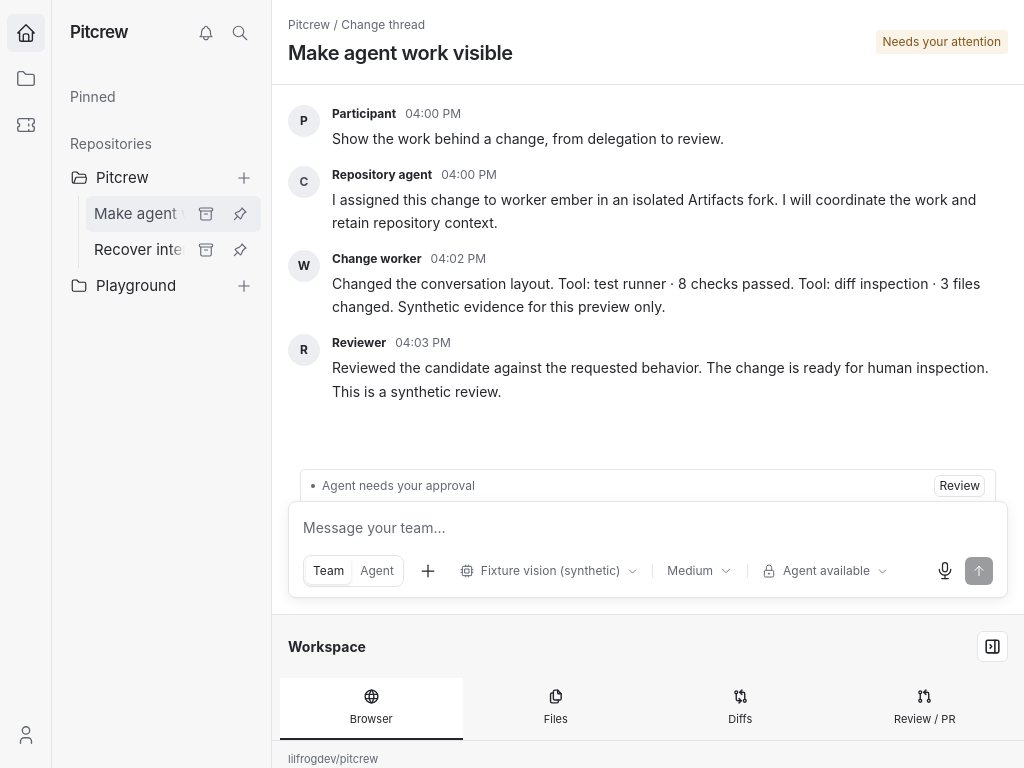
does not start after a pending capability check loses its originating thread
Expected: the text "Show the work behind a change, from delegation to review." is shown, [332,130,724,147]
Click the button named "Dictate message".
click(945, 571)  # box [929,555,961,587]
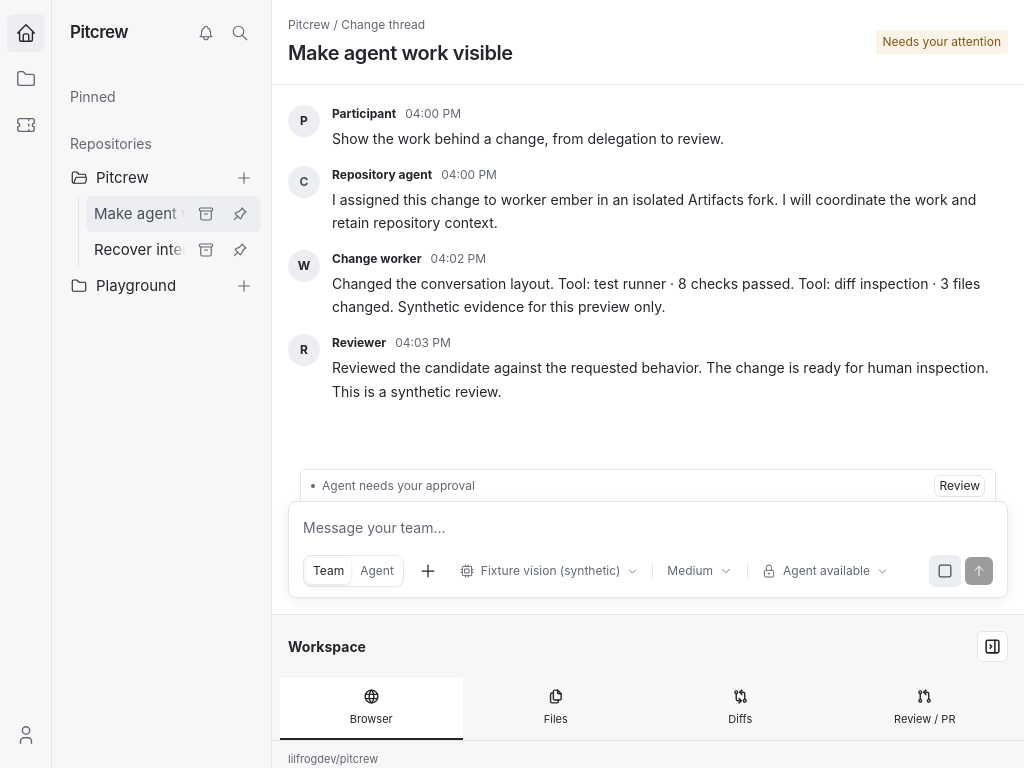
Click the button "Recover interrupted work".
click(174, 250)  # box [86,233,261,267]
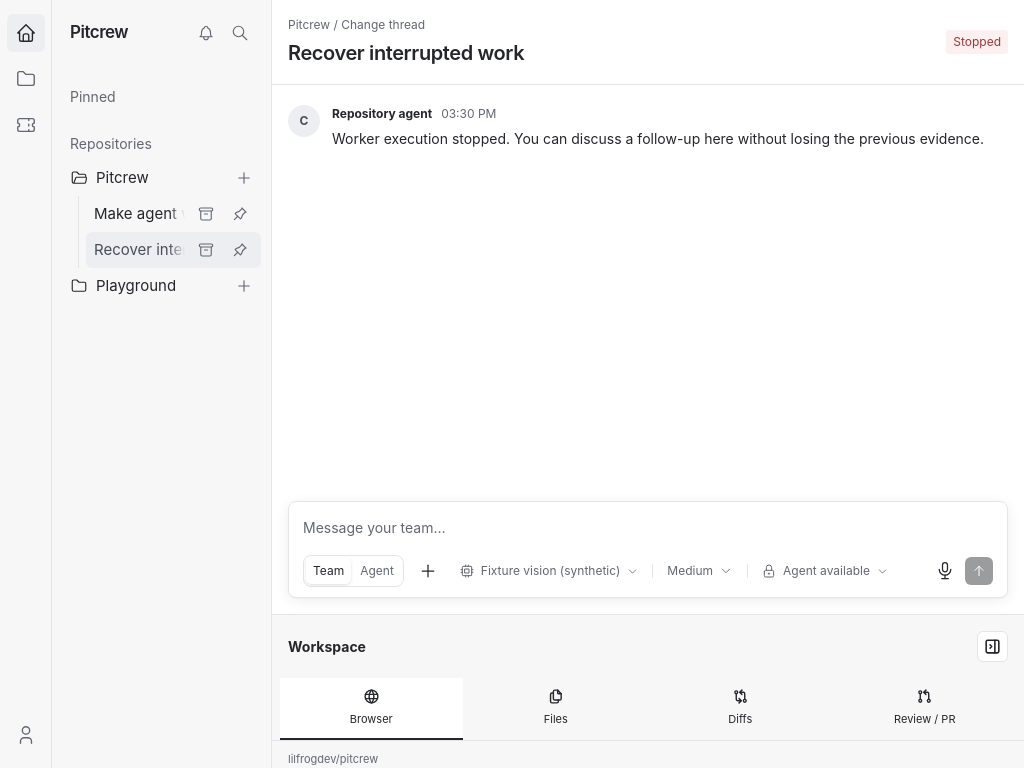
Expected: the button named "Dictate message" is shown, [929,555,961,587]
